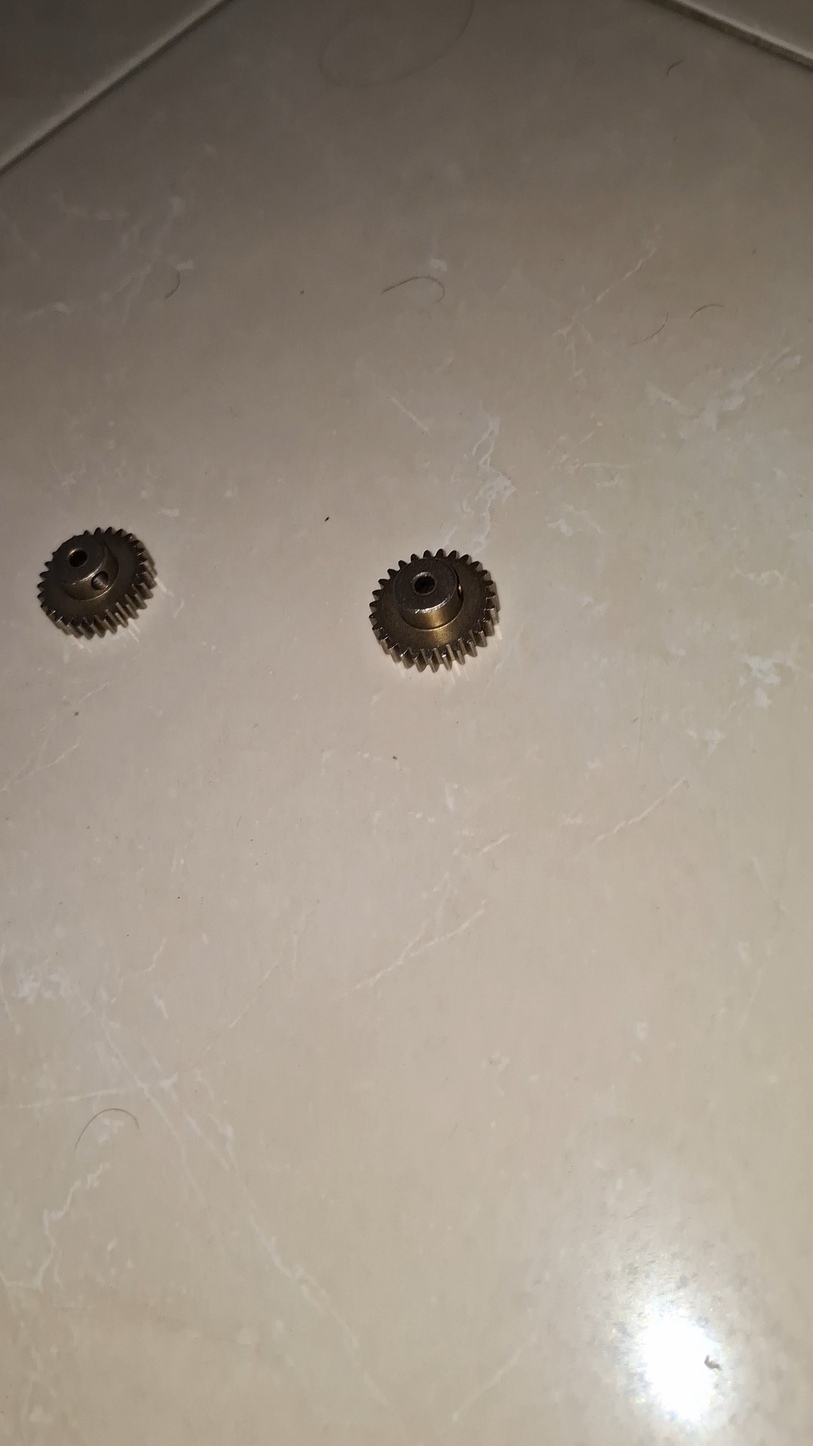spur gear: (367, 559, 495, 677), (35, 537, 152, 646)
